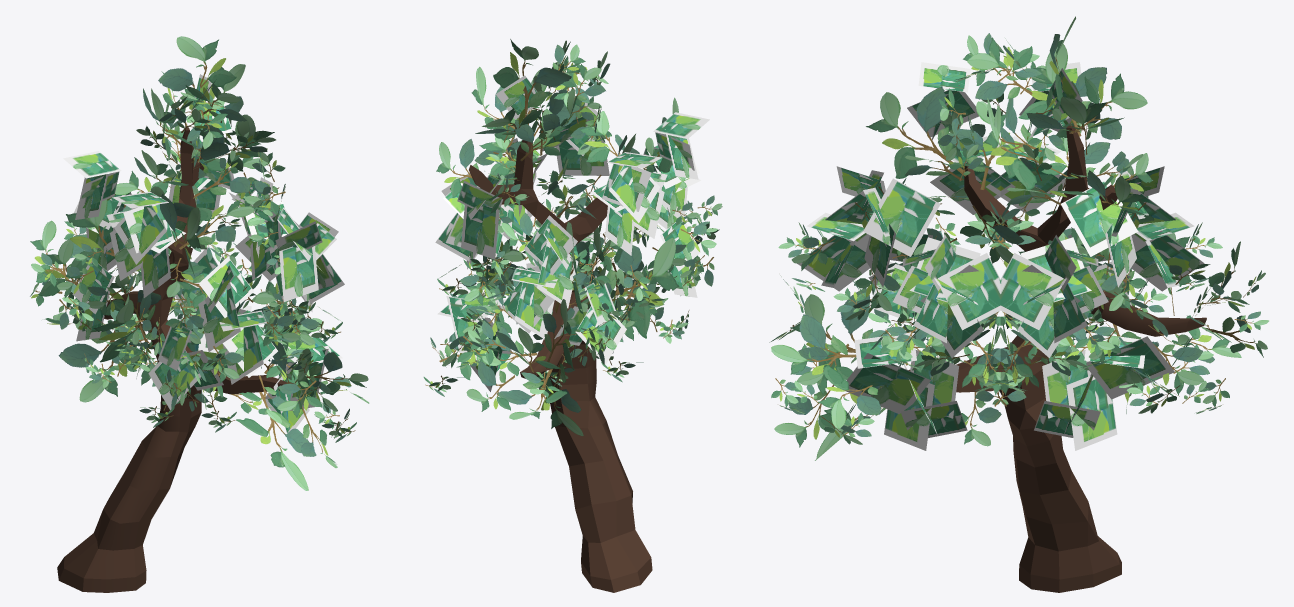
File: Tree_01_redone.fbx
The picture shows the model from 3 angles, left to right: view 1: azimuth 30°, elevation 25°; view 2: azimuth 150°, elevation 25°; view 3: azimuth 270°, elevation 25°; orthographic projection. The views are drawn at different scales.
Visible parts, largest first — view 1: Temp_Scene_Refine:Temp_Scene_Refine:polySurface2320, pPlane47, wood; view 2: Temp_Scene_Refine:Temp_Scene_Refine:polySurface2320, pPlane47, wood; view 3: Temp_Scene_Refine:Temp_Scene_Refine:polySurface2320, pPlane47, wood.
Boxes of the visible parts, x1,y1,x2,y2 form: Temp_Scene_Refine:Temp_Scene_Refine:polySurface2320: (31, 74, 356, 442); pPlane47: (30, 36, 369, 490); wood: (57, 127, 286, 592); Temp_Scene_Refine:Temp_Scene_Refine:polySurface2320: (423, 40, 722, 396); pPlane47: (436, 39, 679, 435); wood: (469, 140, 652, 592); Temp_Scene_Refine:Temp_Scene_Refine:polySurface2320: (769, 33, 1268, 450); pPlane47: (771, 16, 1267, 460); wood: (908, 125, 1206, 592).
Bounding box in the file's own units: 3.09 × 6.66 × 5.02.
